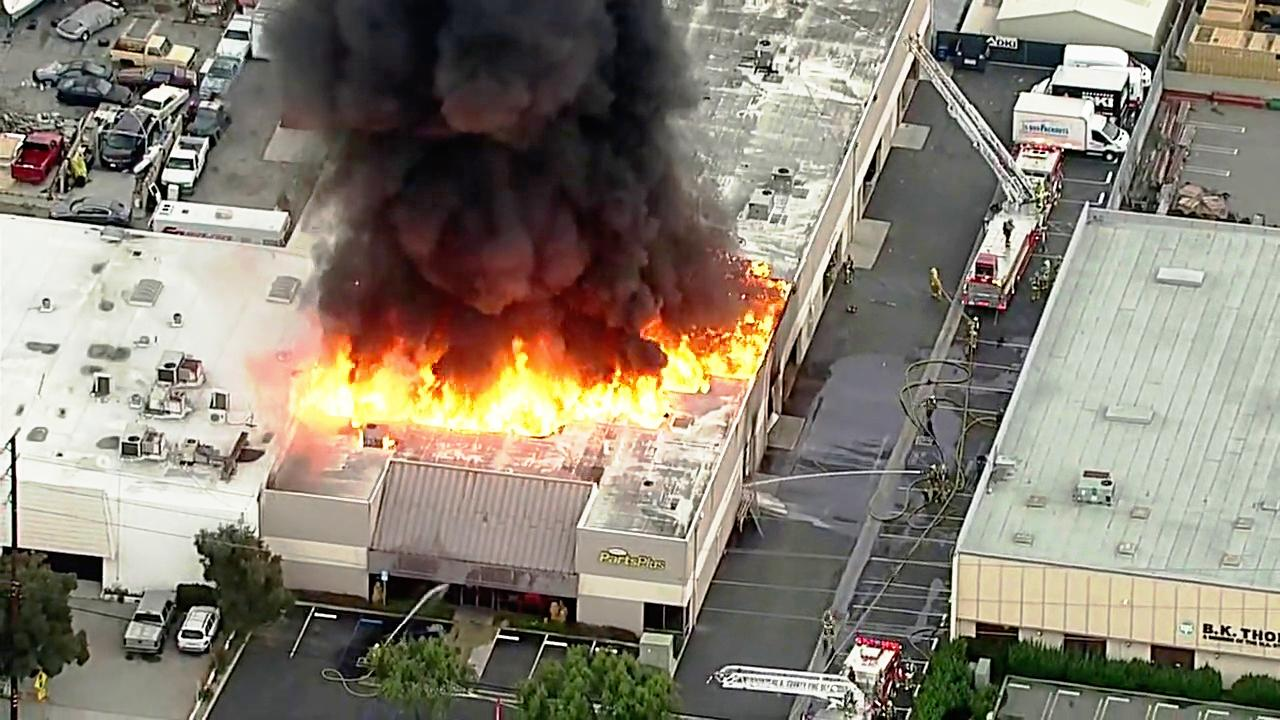fire: (291, 342, 444, 446), (633, 319, 770, 410), (439, 362, 569, 438), (591, 382, 665, 428)
smoke: (355, 0, 655, 327)
